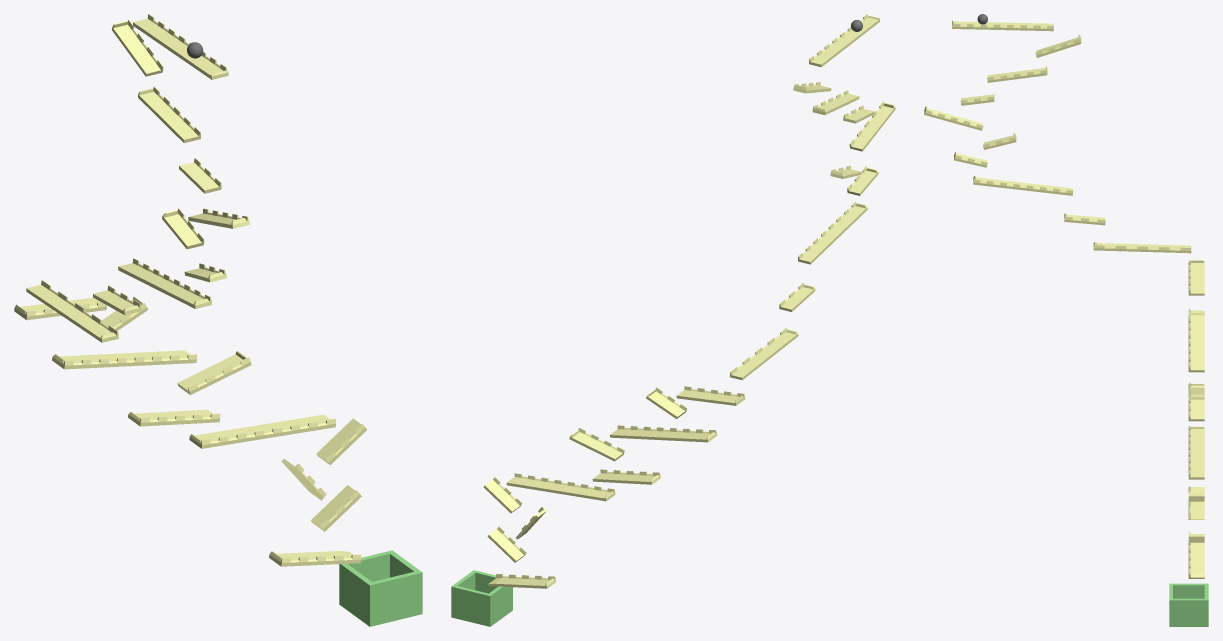
Rendered from BallRail.glb.
The picture shows the model from 3 angles, left to right: view 1: azimuth 30°, elevation 25°; view 2: azimuth 150°, elevation 25°; view 3: azimuth 270°, elevation 25°; orthographic projection. The views are drawn at different scales.
Visible parts, largest first — view 1: Basket, Cube.016, Cube.012, Cube.009, Cube.004, Cube.008, Cube.006, Cube.005, Cube.014, Cube.015, Cube.020, Cube.017 (+6 smaller); view 2: Basket, Cube.016, Cube.012, Cube.008, Cube.009, Cube.004, Cube.010, Cube.011, Cube.015, Cube.014, Cube.020, Cube.019 (+1 smaller); view 3: Basket, Cube.012, Cube.016, Cube.004, Cube.008, Cube.009, Cube.020, Cube.011, Cube.006, Cube.010, Cube.015, Cube.018.
Part boxes in pixels (<box>): Basket: <box>339,550,422,626</box>; Cube.016: <box>189,414,335,448</box>; Cube.012: <box>52,350,197,369</box>; Cube.009: <box>26,280,118,342</box>; Cube.004: <box>133,14,228,79</box>; Cube.008: <box>118,258,212,308</box>; Cube.006: <box>138,86,200,142</box>; Cube.005: <box>111,20,163,76</box>; Cube.014: <box>177,351,251,394</box>; Cube.015: <box>128,409,220,426</box>; Cube.020: <box>269,551,361,566</box>; Cube.017: <box>316,418,366,465</box>; Basket: <box>451,570,512,626</box>; Cube.016: <box>506,473,615,501</box>; Cube.012: <box>610,425,717,442</box>; Cube.008: <box>798,201,867,264</box>; Cube.009: <box>730,327,798,380</box>; Cube.004: <box>809,14,879,67</box>; Cube.010: <box>849,101,895,151</box>; Cube.011: <box>676,386,745,405</box>; Cube.015: <box>592,469,660,484</box>; Cube.014: <box>569,427,624,461</box>; Cube.020: <box>488,574,556,588</box>; Cube.019: <box>487,526,526,562</box>; Basket: <box>1169,583,1208,626</box>; Cube.012: <box>1188,315,1204,372</box>; Cube.016: <box>1188,425,1204,479</box>; Cube.004: <box>952,20,1053,31</box>; Cube.008: <box>973,175,1073,195</box>; Cube.009: <box>1093,241,1191,253</box>; Cube.020: <box>1188,542,1204,578</box>; Cube.011: <box>1188,259,1204,295</box>; Cube.006: <box>987,66,1047,82</box>; Cube.010: <box>924,106,983,130</box>; Cube.015: <box>1188,382,1204,421</box>; Cube.018: <box>1188,486,1204,519</box>.
Size of the model in its own units: 6.78 by 13.05 by 6.78.
